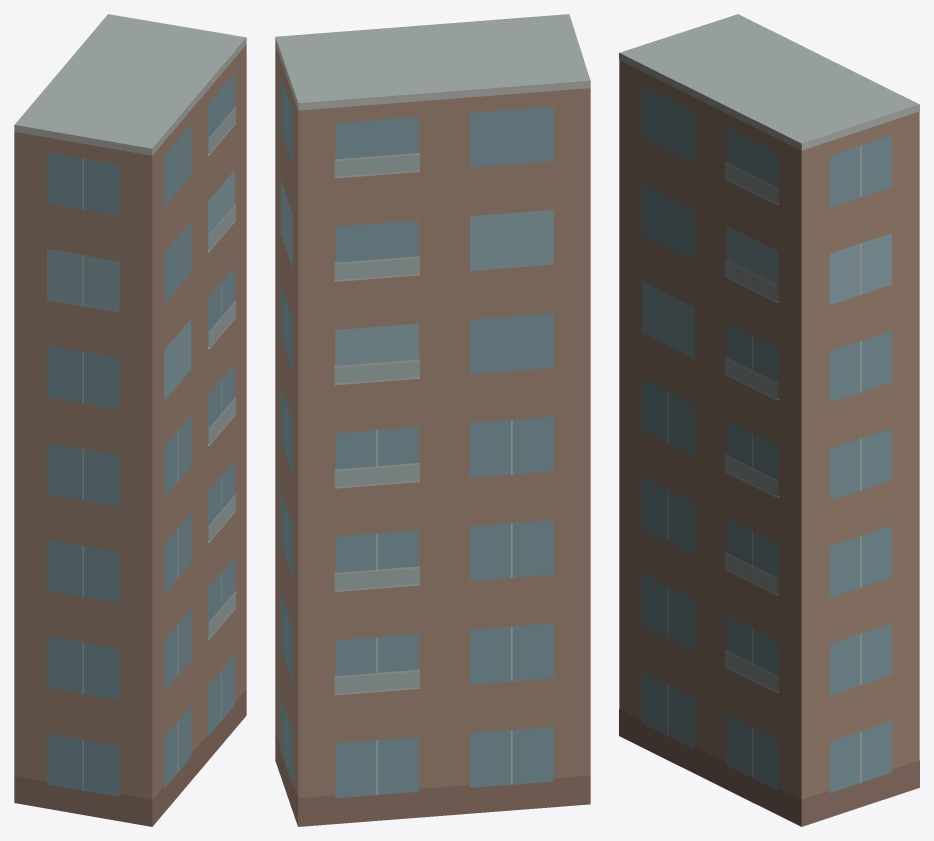
The model's file is survey-upis-32497753.glb.
3 views of the same model, side by side, from view 1: azimuth 30°, elevation 25°; view 2: azimuth 150°, elevation 25°; view 3: azimuth 270°, elevation 25° (orthographic). The views are drawn at different scales.
Parts seen in each view (by area): view 1: survey-upis-32497753.tmp; view 2: survey-upis-32497753.tmp; view 3: survey-upis-32497753.tmp.
Part boxes in pixels (<box>): survey-upis-32497753.tmp: <box>14,14,246,826</box>; survey-upis-32497753.tmp: <box>275,14,590,826</box>; survey-upis-32497753.tmp: <box>619,14,919,826</box>.
Bounding box in the file's own units: 9.74 × 23.9 × 9.54.
